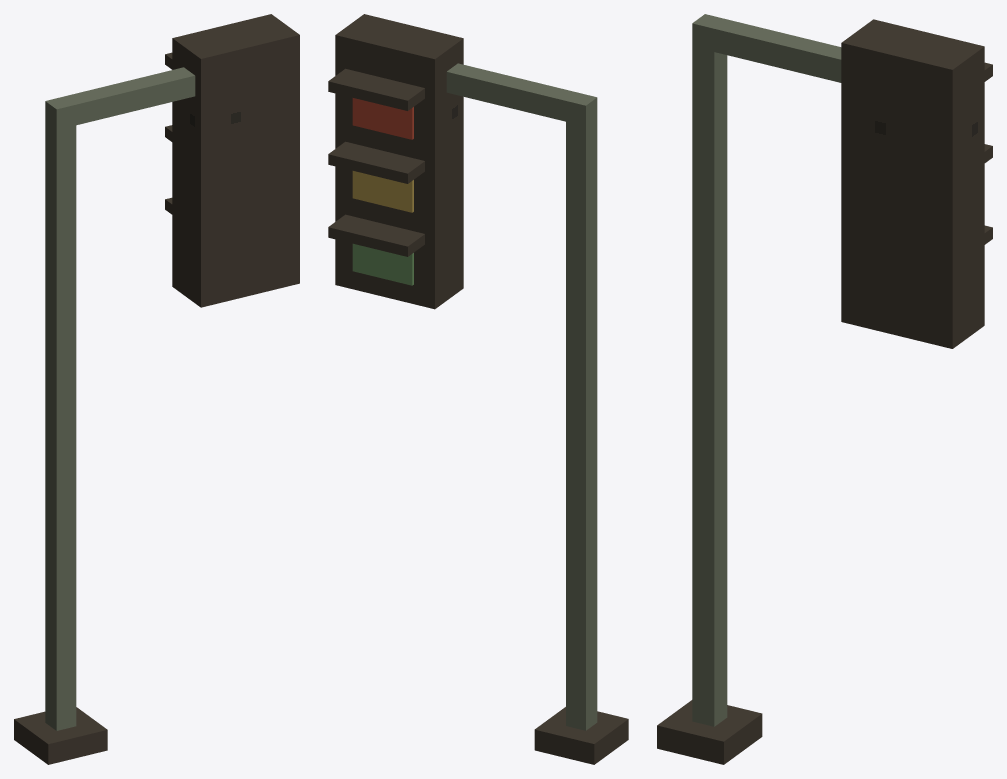
Rendered from traffic_signal.gltf.
The picture shows the model from 3 angles, left to right: view 1: azimuth 30°, elevation 25°; view 2: azimuth 150°, elevation 25°; view 3: azimuth 330°, elevation 25°; orthographic projection. The views are drawn at different scales.
Parts seen in each view (by area): view 1: housing, pole, arm, base; view 2: housing, pole, visor (×3), lens (×3), arm, base; view 3: housing, pole, arm, base.
Boxes of the visible parts, bbox=[...] form: housing: bbox=[172, 14, 299, 307]; pole: bbox=[45, 96, 76, 730]; arm: bbox=[56, 67, 195, 126]; base: bbox=[14, 707, 107, 764]; housing: bbox=[335, 14, 463, 309]; pole: bbox=[566, 92, 597, 730]; visor (×3): bbox=[328, 68, 424, 256]; lens (×3): bbox=[352, 98, 413, 285]; arm: bbox=[446, 63, 582, 123]; base: bbox=[534, 707, 628, 764]; housing: bbox=[841, 19, 984, 348]; pole: bbox=[692, 14, 727, 726]; arm: bbox=[703, 17, 841, 82]; base: bbox=[657, 700, 762, 764].
Size of the model in its own units: 1.62 by 4 by 0.5625.
5 materials, 5 textured.
